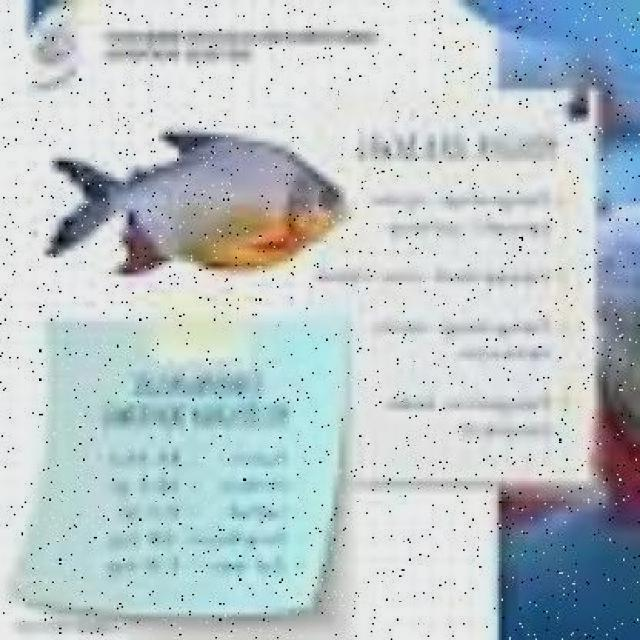ikan-pacu: (38, 127, 346, 276)
